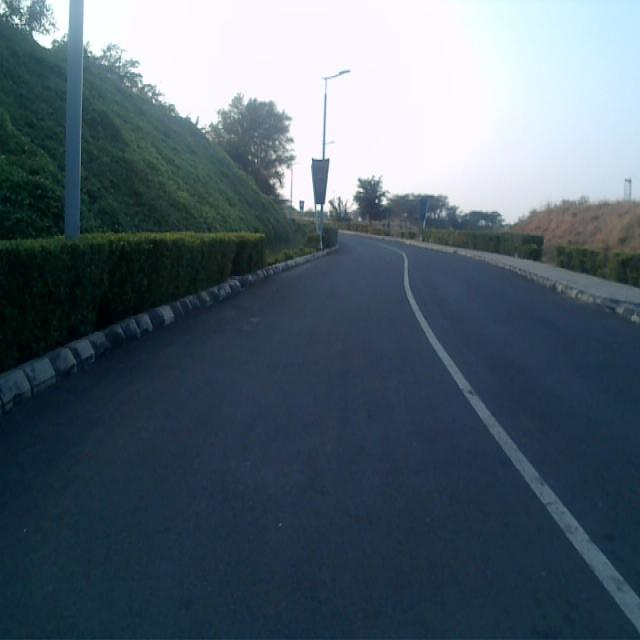lane: (0, 244, 640, 640)
